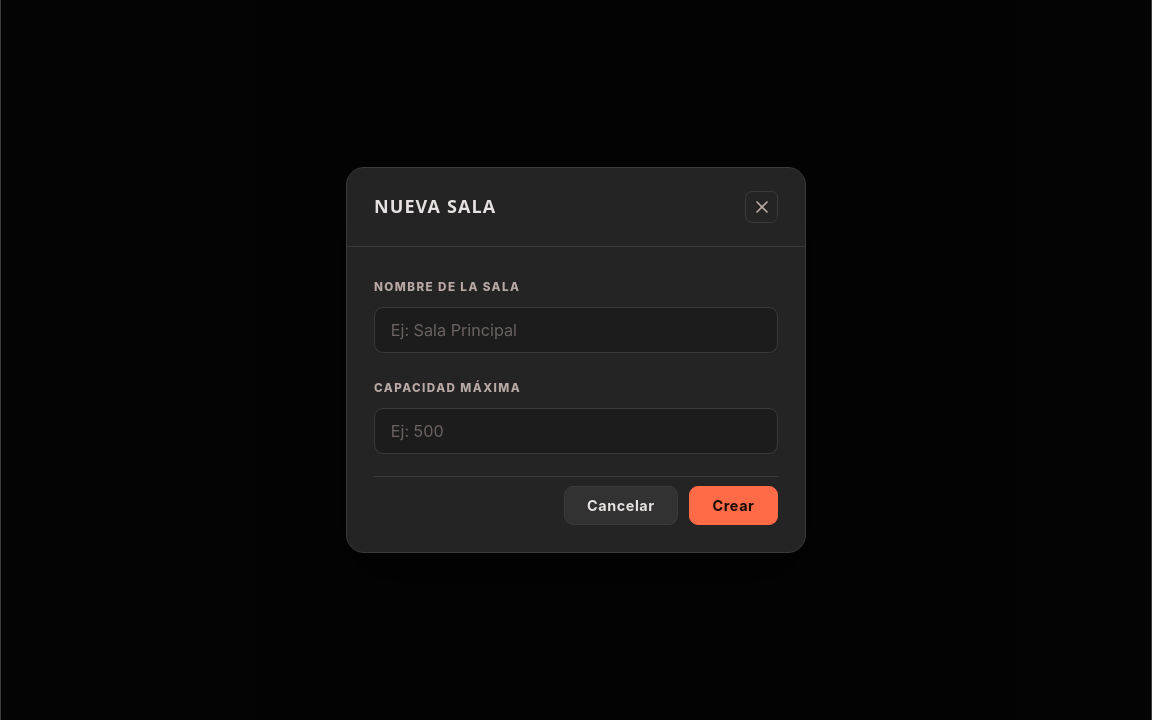
RoomFormModal › shows error when submitting with empty name
Click the button "Crear" at x=734, y=506, box [689,486,778,525]
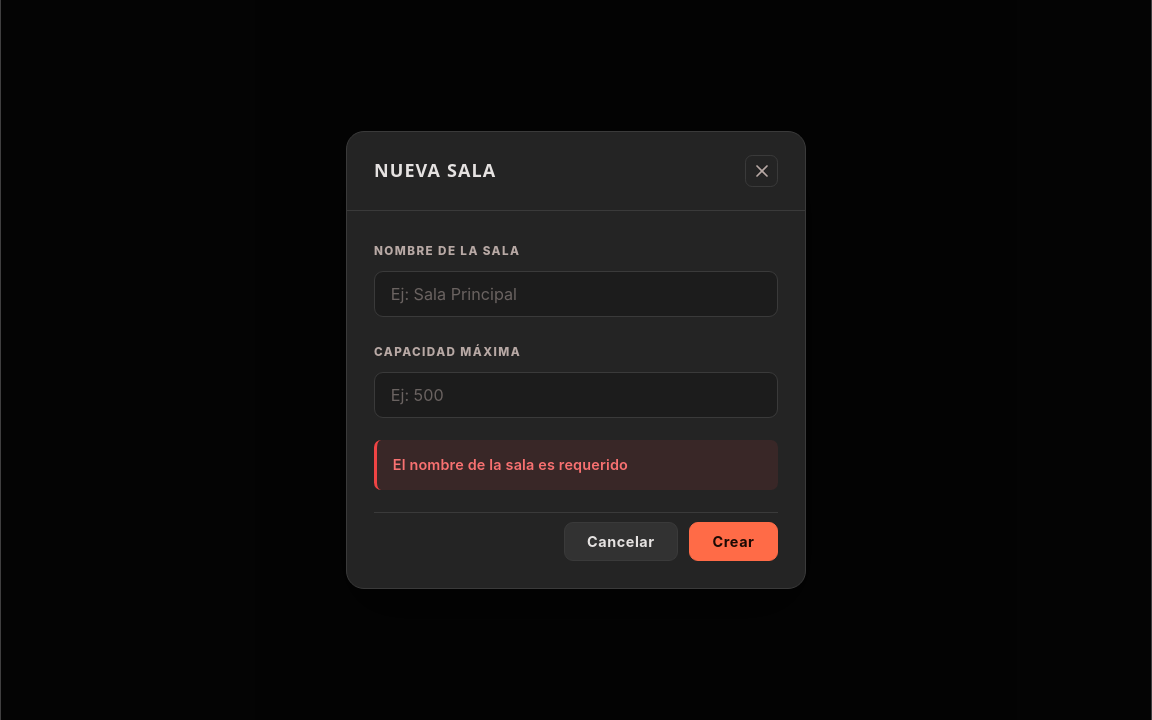
expect the text "El nombre de la sala es requerido" is shown: met, box [374,440,778,490]
